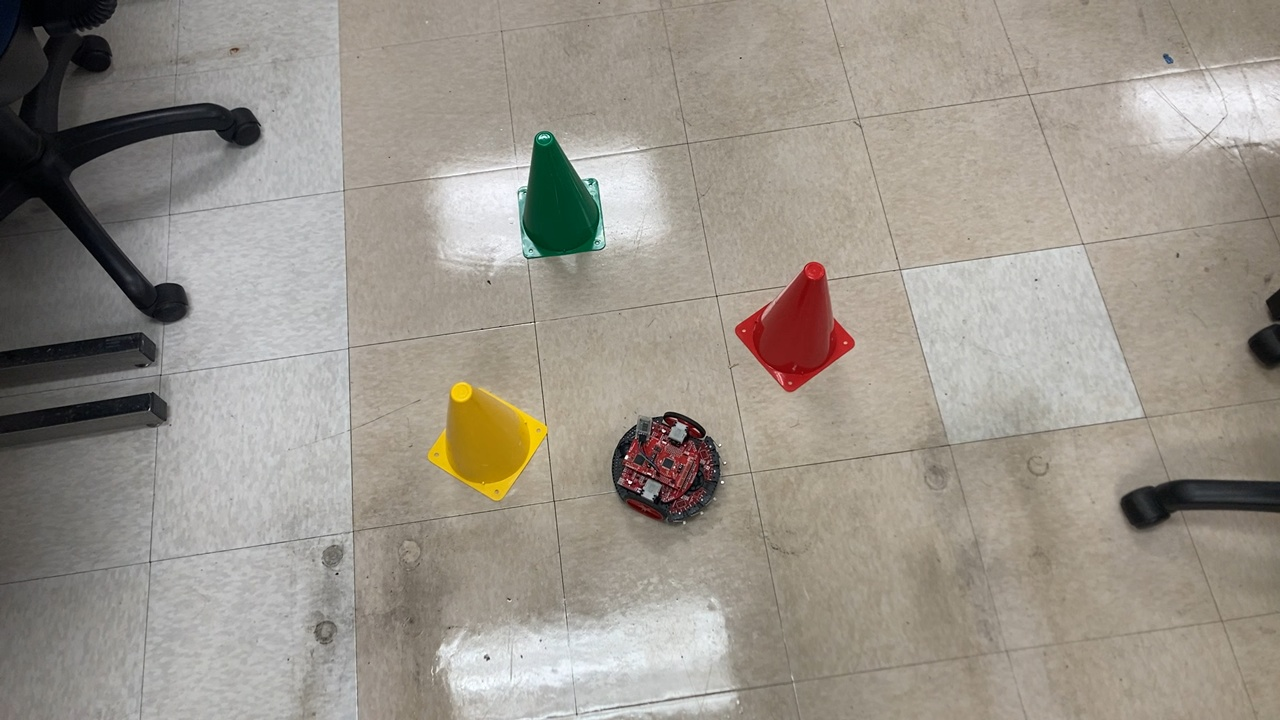green_cone: (514, 130, 615, 263)
red_cone: (728, 260, 866, 398)
robot: (609, 412, 727, 528)
yellow_cone: (423, 382, 552, 503)
